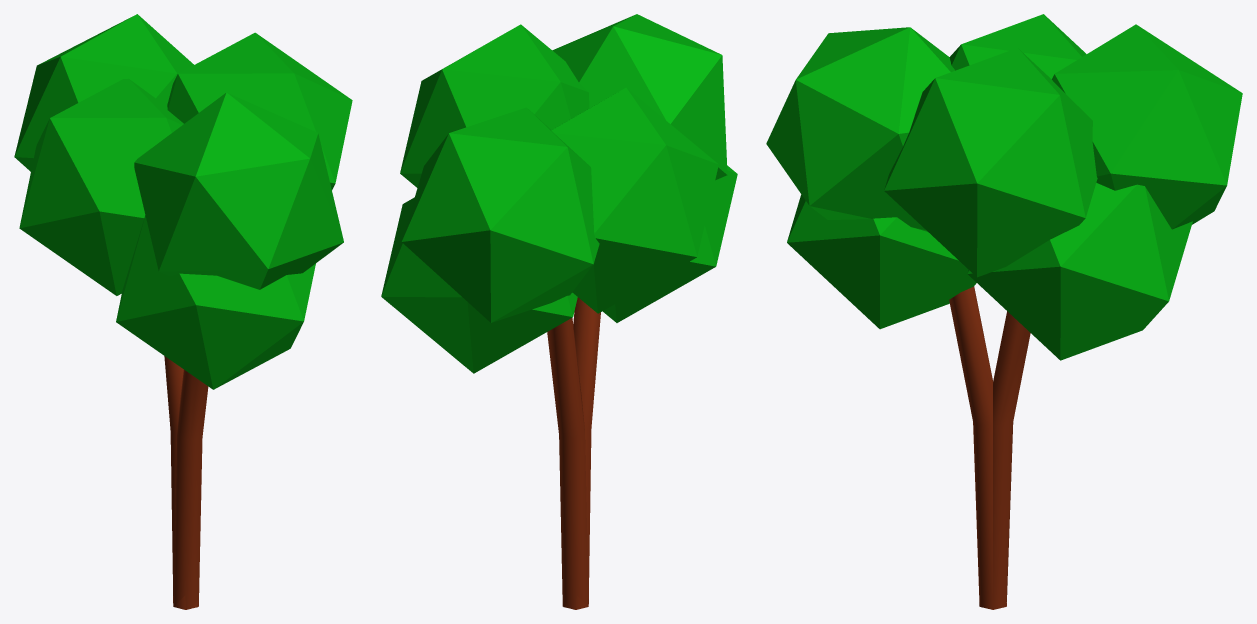
The model's file is liściaste.fbx.
3 renders of one model, left to right at view 1: azimuth 30°, elevation 25°; view 2: azimuth 150°, elevation 25°; view 3: azimuth 270°, elevation 25°, orthographic. The views are drawn at different scales.
Visible parts, largest first — view 1: DrzewoLisciaste; view 2: DrzewoLisciaste; view 3: DrzewoLisciaste.
Part boxes in pixels (x1,y1,x2,y2): DrzewoLisciaste: (14, 14, 352, 609); DrzewoLisciaste: (381, 14, 737, 609); DrzewoLisciaste: (766, 14, 1242, 609).
Size of the model in its own units: 117 by 200 by 149.
